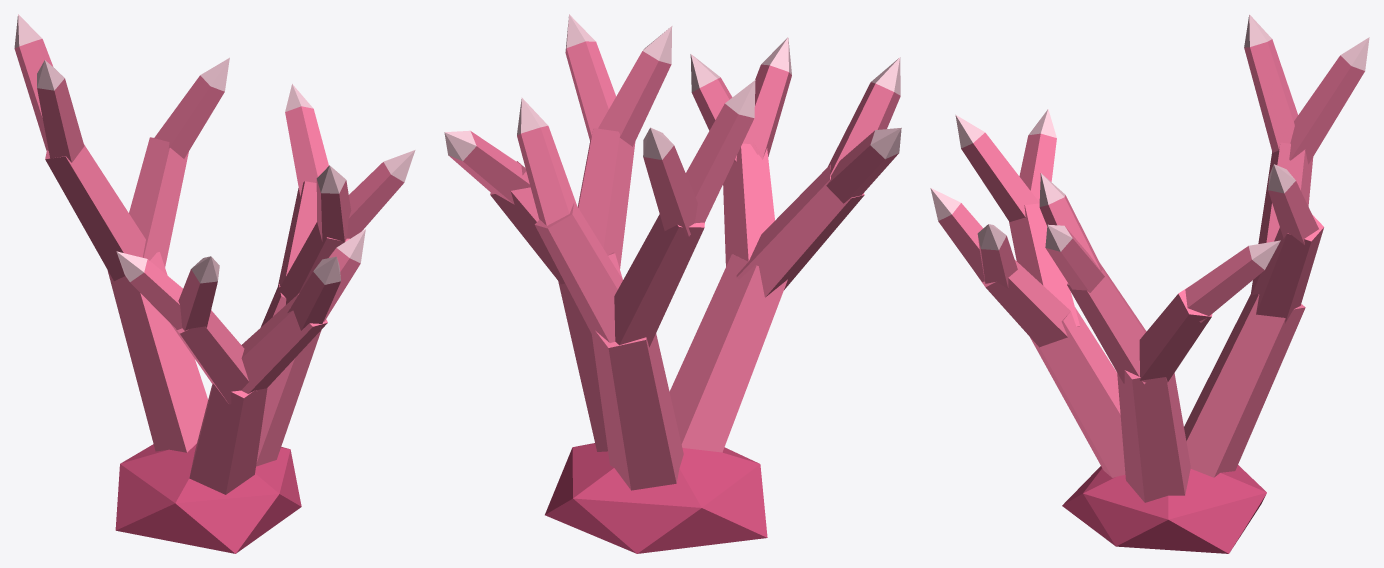
Rendered from coral_branch_pink.fbx.
3 renders of one model, left to right at view 1: azimuth 30°, elevation 25°; view 2: azimuth 150°, elevation 25°; view 3: azimuth 270°, elevation 25°, orthographic. The views are drawn at different scales.
Parts seen in each view (by area): view 1: coral_branch_pink; view 2: coral_branch_pink; view 3: coral_branch_pink.
Boxes of the visible parts, left/top/right/bottom form: coral_branch_pink: left=14, top=14, right=415, bottom=553; coral_branch_pink: left=444, top=14, right=901, bottom=553; coral_branch_pink: left=930, top=14, right=1369, bottom=553.
Size of the model in its own units: 407 by 609 by 520.
Materials: 1 (1 with a texture image).
